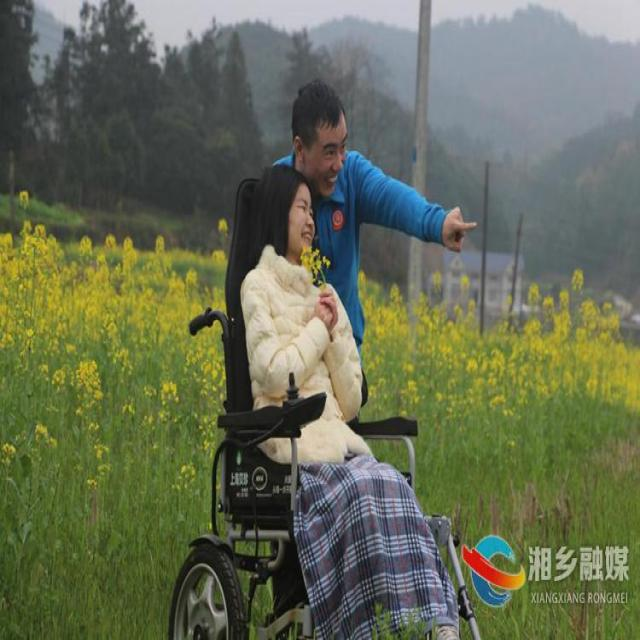wheelchairs: (169, 298, 486, 640)
